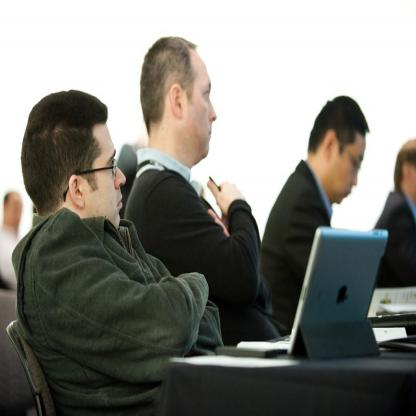board: (258, 210, 389, 364)
